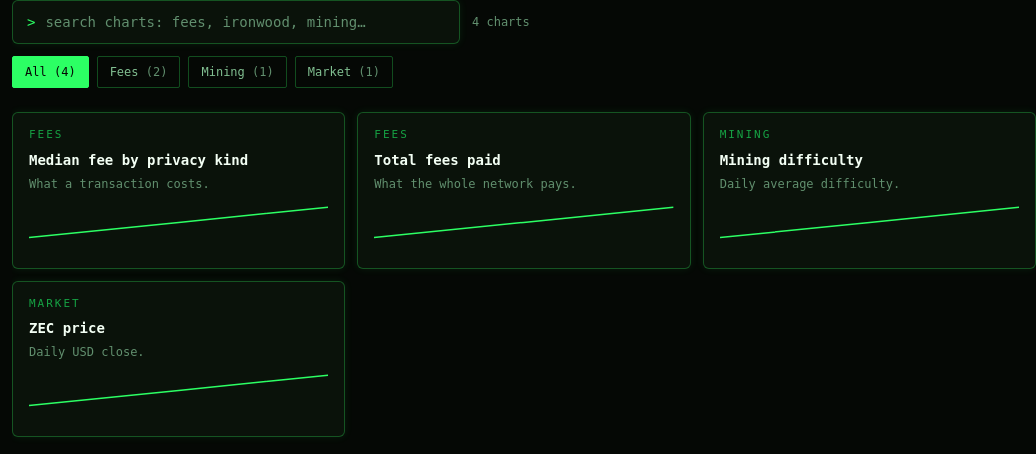
Test: ChartLibrary › says so when nothing matches, rather than showing an empty grid
Type "zzz" into the search field at [245, 22], box [45,12,445,32]
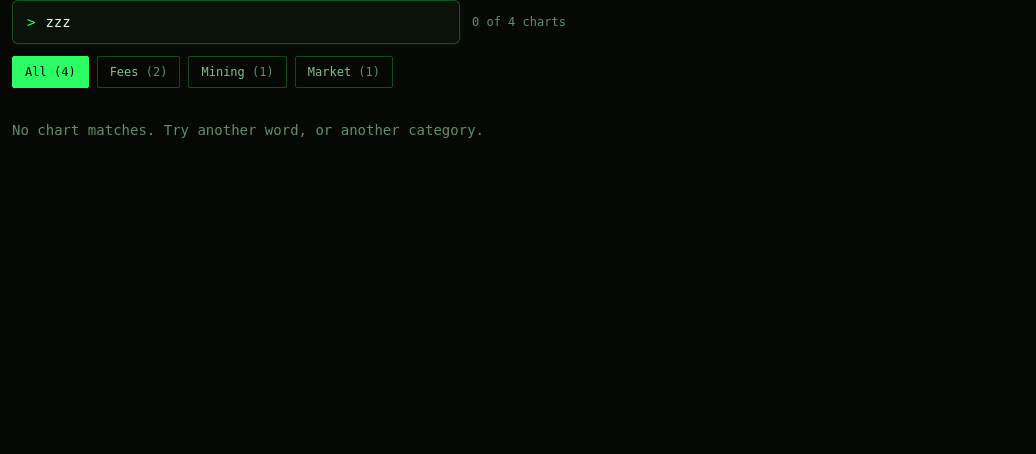
expect the text "No chart matches. Try another word, or another category." is shown: met, box [12,122,484,138]
